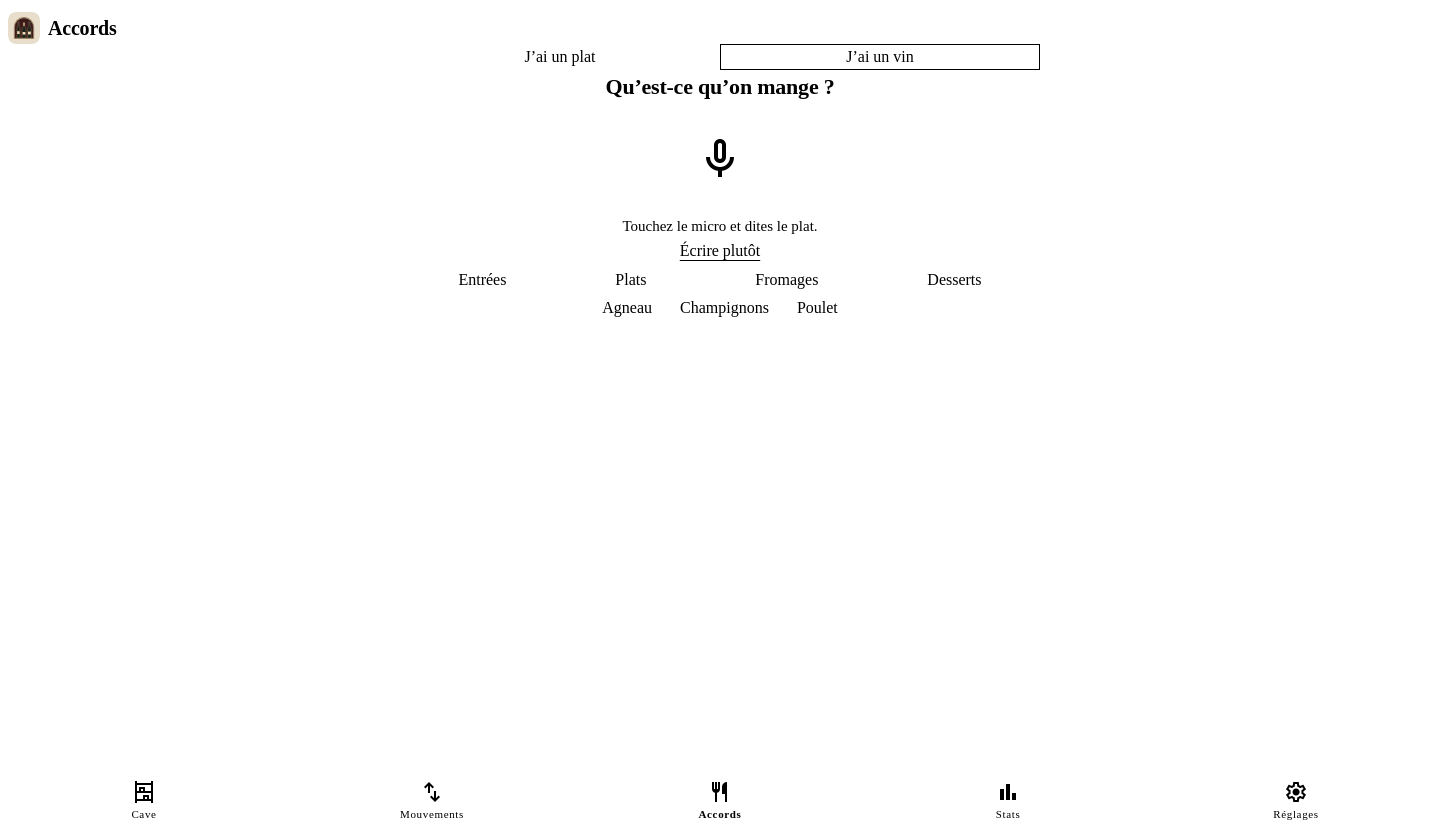
Test: dictée : texte intermédiaire en direct, la fin de la dictée lance la recherche
This screenshot has width=1440, height=822.
Click the button named "Dicter le plat".
click(720, 159)  # box [664,103,776,215]
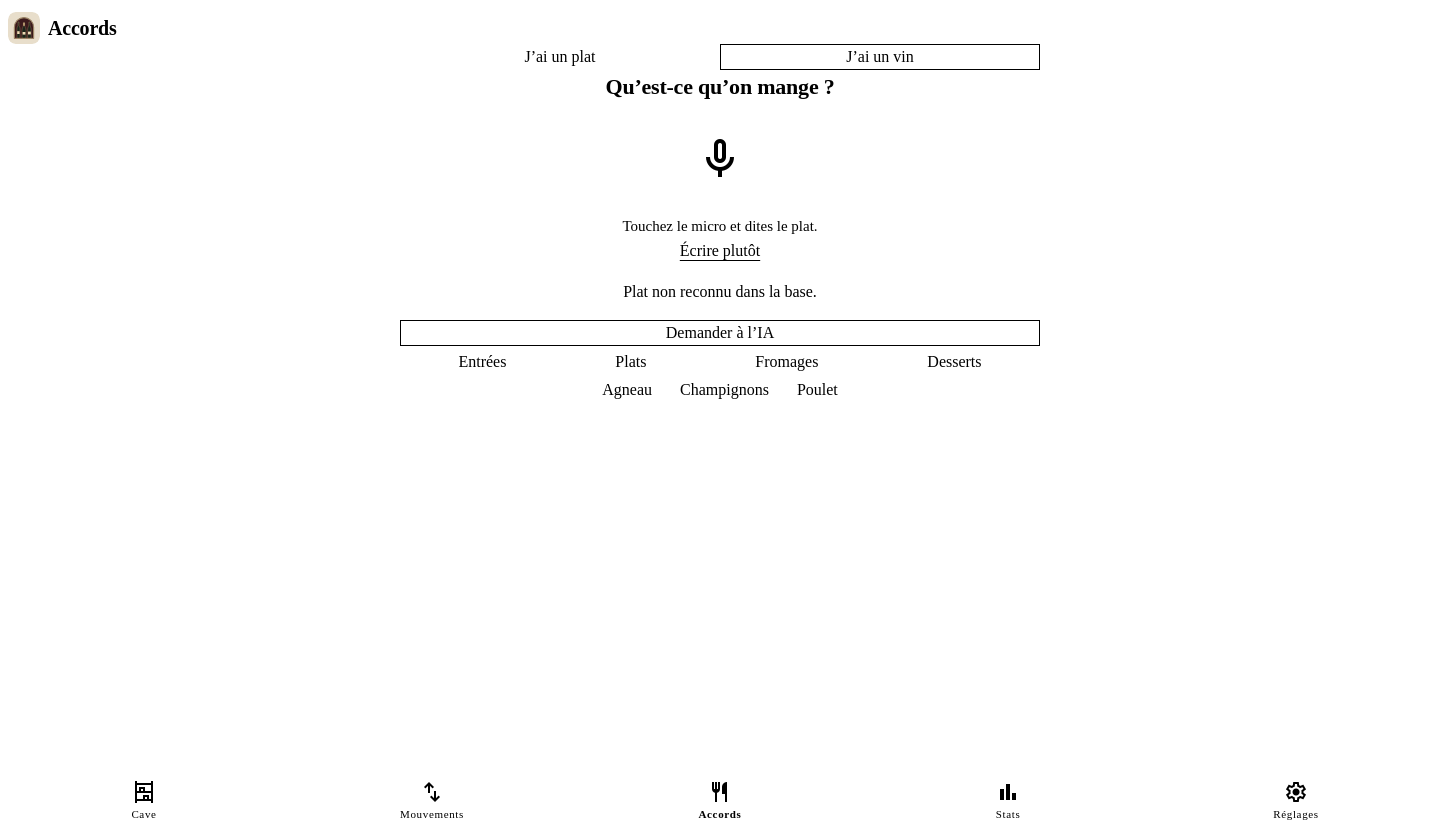
Check: the text "Daube provençale" is shown, box [622,215,818,238]
Check: the text "Plat non reconnu dans la base." is shown, box [623,282,817,300]
Click the button "Demander à l’IA".
click(720, 332)  # box [400,320,1040,346]
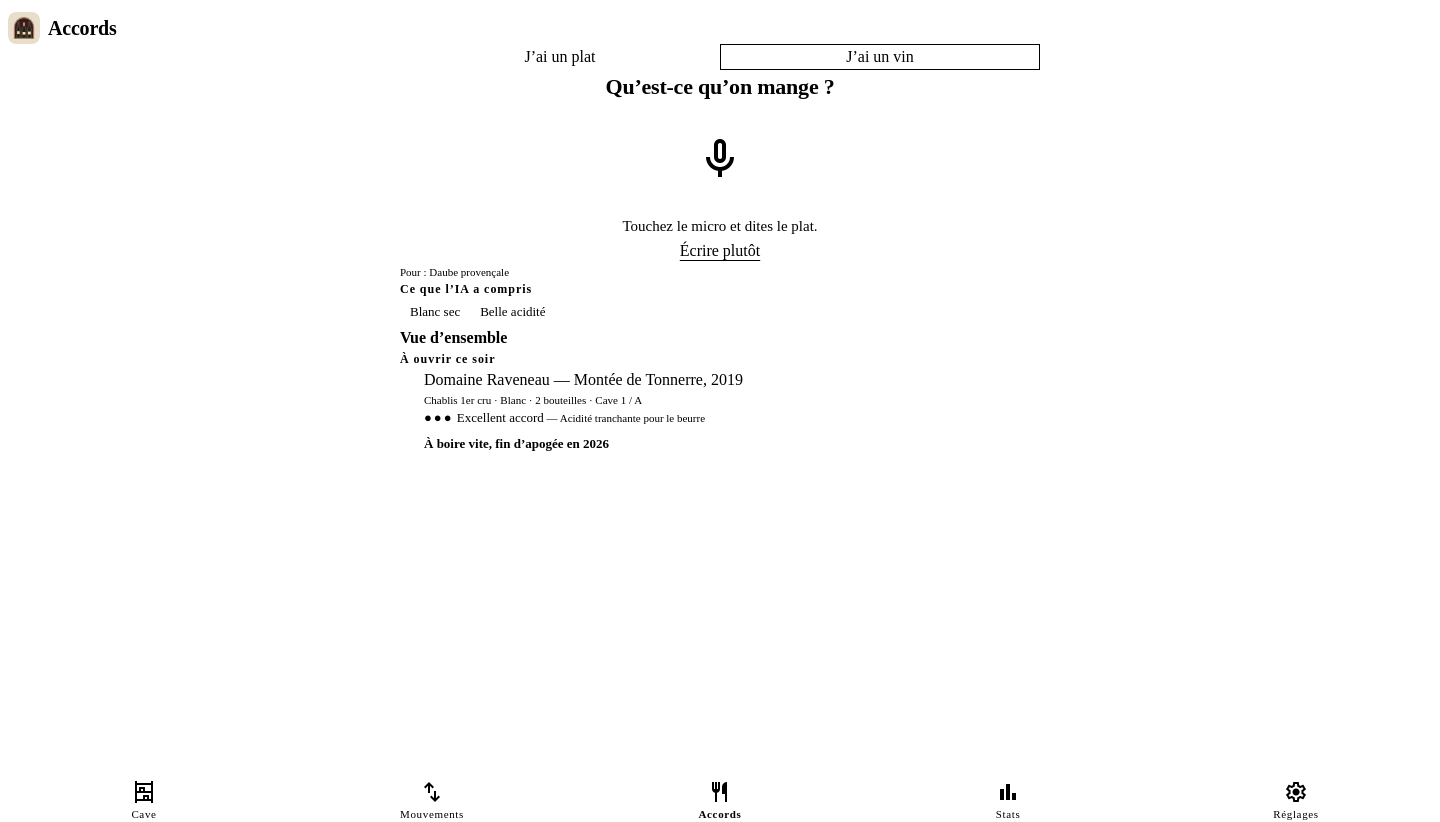
Check: the link "Domaine Raveneau" is shown, box [408,370,743,450]
